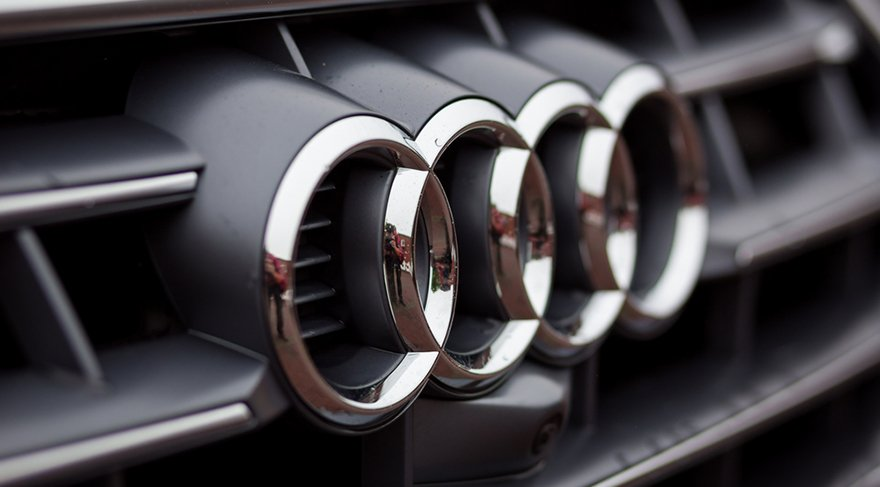audi: (218, 55, 725, 451)
